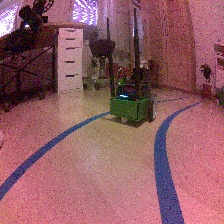rob: (109, 67, 158, 123)
